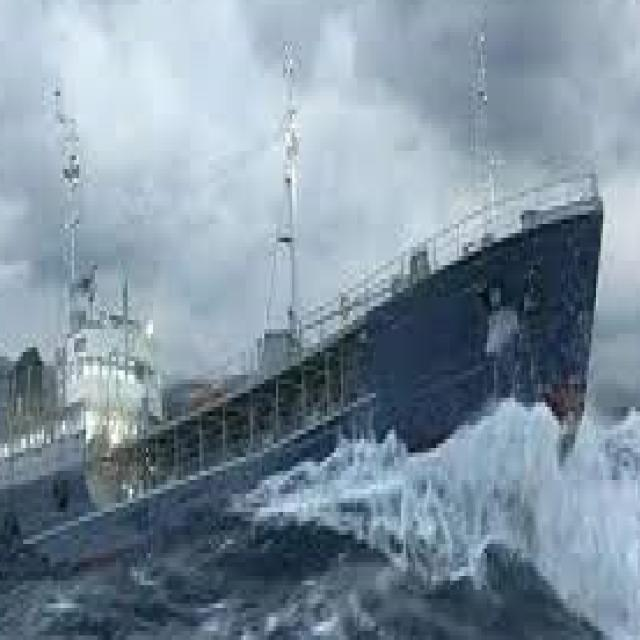cargoship: (0, 114, 598, 484)
